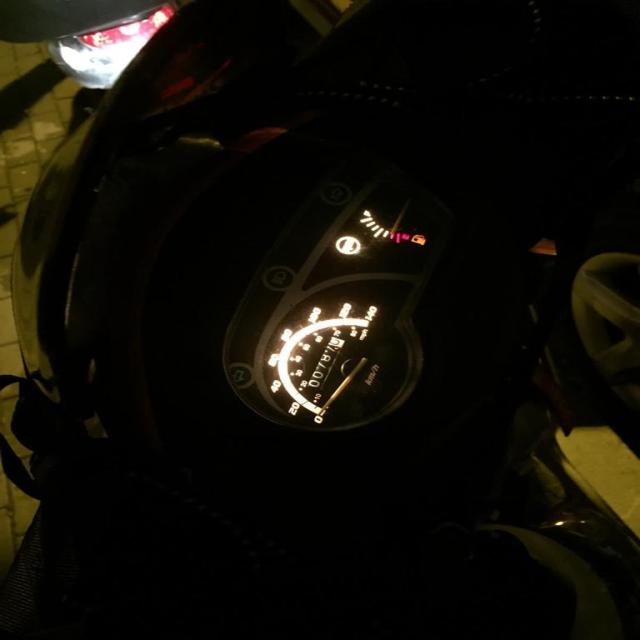odometer: (305, 336, 346, 392)
